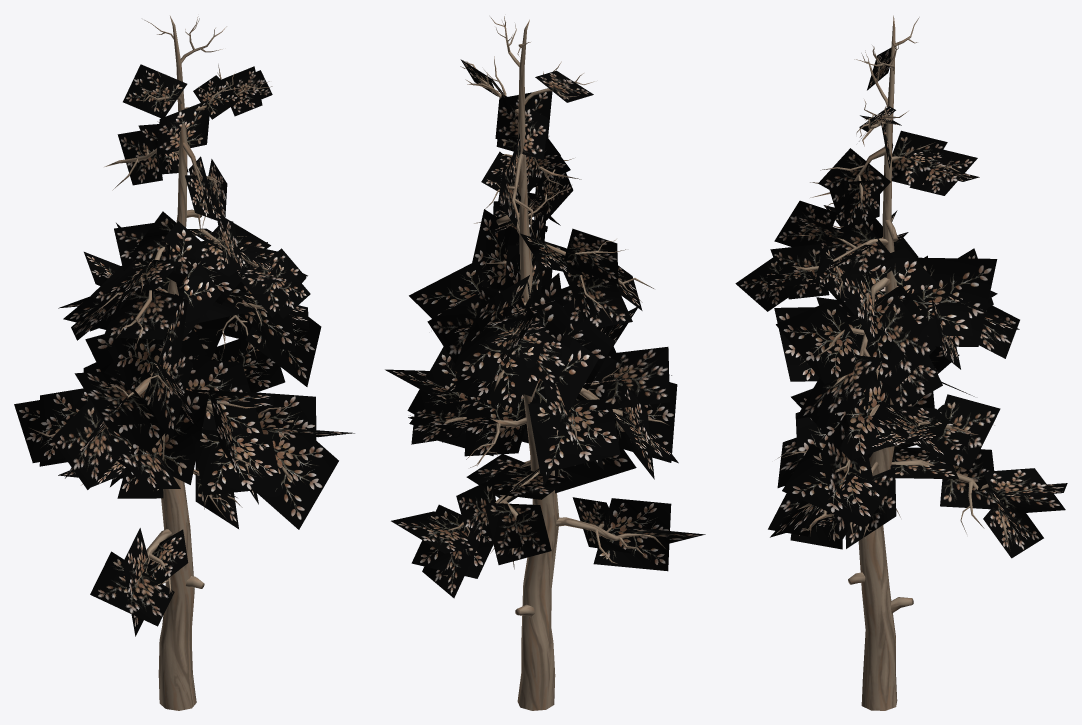
File: P_PineLeafySnow02.obj
The picture shows the model from 3 angles, left to right: view 1: azimuth 30°, elevation 25°; view 2: azimuth 150°, elevation 25°; view 3: azimuth 270°, elevation 25°; orthographic projection.
Size of the model in its own units: 7.12 by 16.55 by 7.24.
